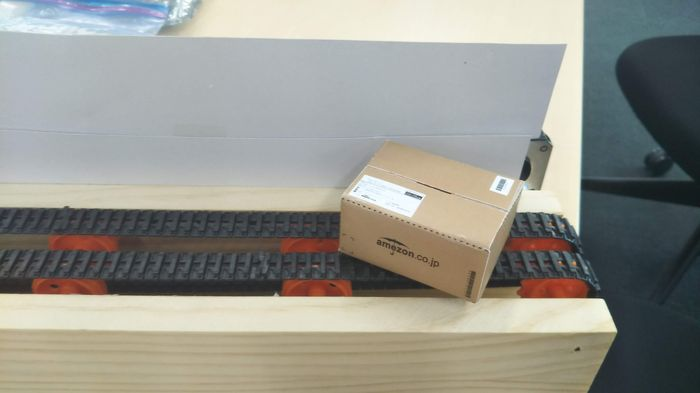box1: (335, 137, 527, 302)
